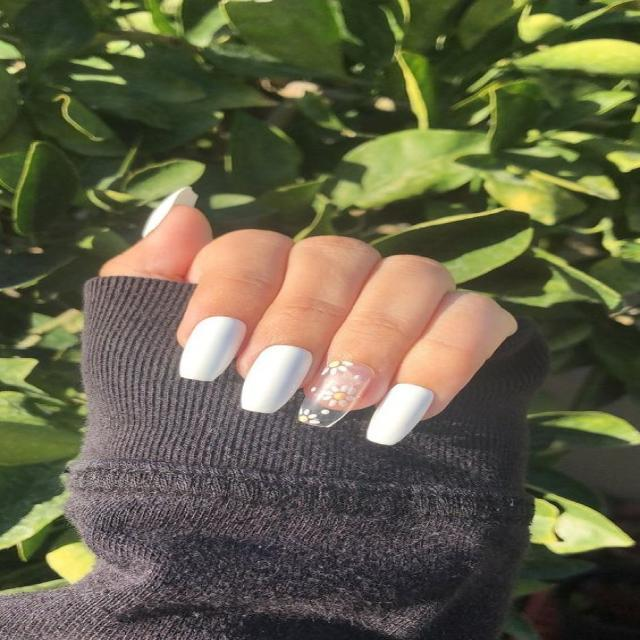Fingernail: (239, 345, 313, 415), (299, 360, 376, 427), (179, 316, 247, 382), (366, 384, 435, 445)
